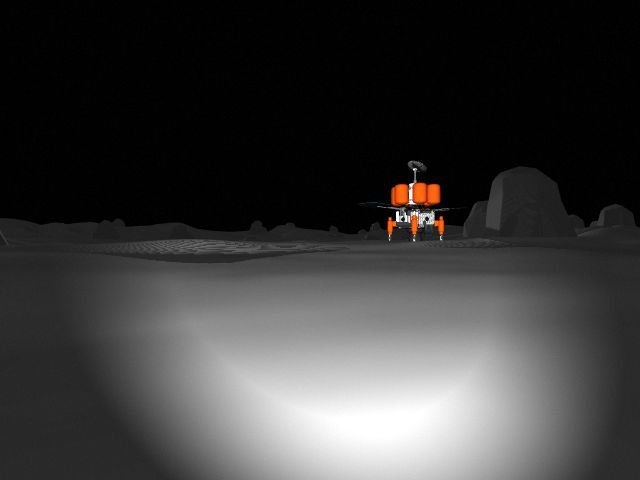homebase: (357, 158, 468, 245)
